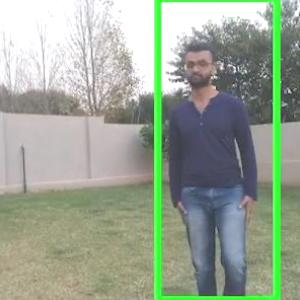follow: (166, 33, 263, 299)
